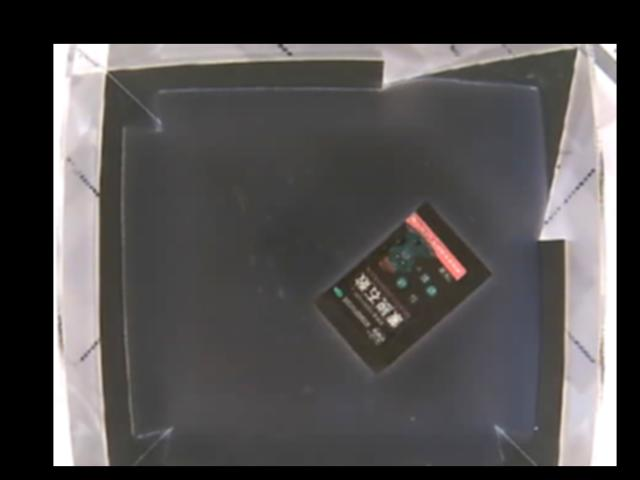Medicine: (314, 203, 495, 378)
